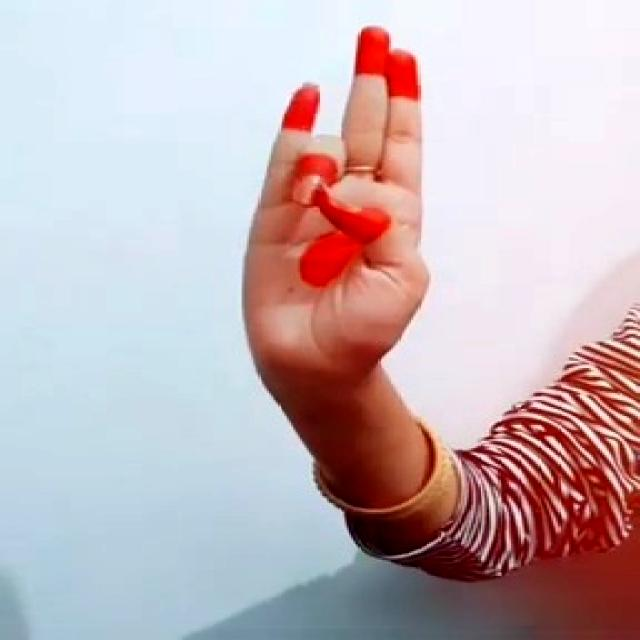Mayura: (250, 21, 456, 398)
bangle: (294, 406, 456, 536)
